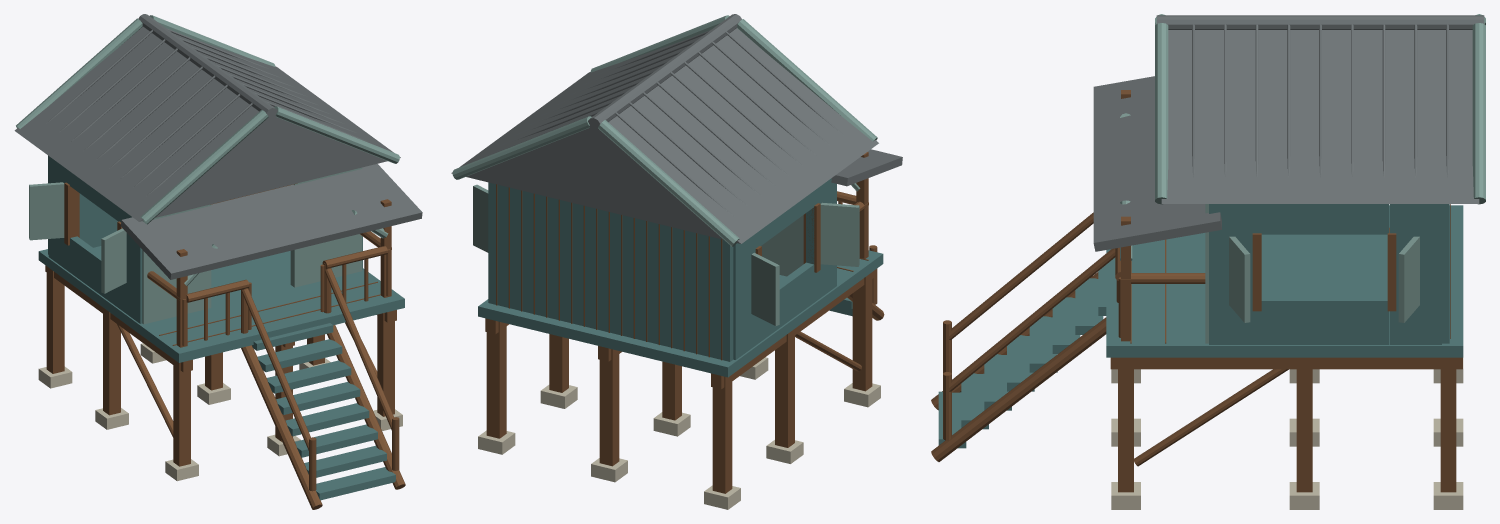
The model's file is house-blue-ultra.glb.
3 views of the same model, side by side, from view 1: azimuth 30°, elevation 25°; view 2: azimuth 150°, elevation 25°; view 3: azimuth 270°, elevation 25° (orthographic). The views are drawn at different scales.
Parts seen in each view (by area): view 1: house-blue; view 2: house-blue; view 3: house-blue.
Part boxes in pixels (<box>): house-blue: <box>14,14,422,509</box>; house-blue: <box>451,14,902,509</box>; house-blue: <box>931,14,1485,509</box>.
Bounding box in the file's own units: 4.17 × 4.71 × 5.59.
